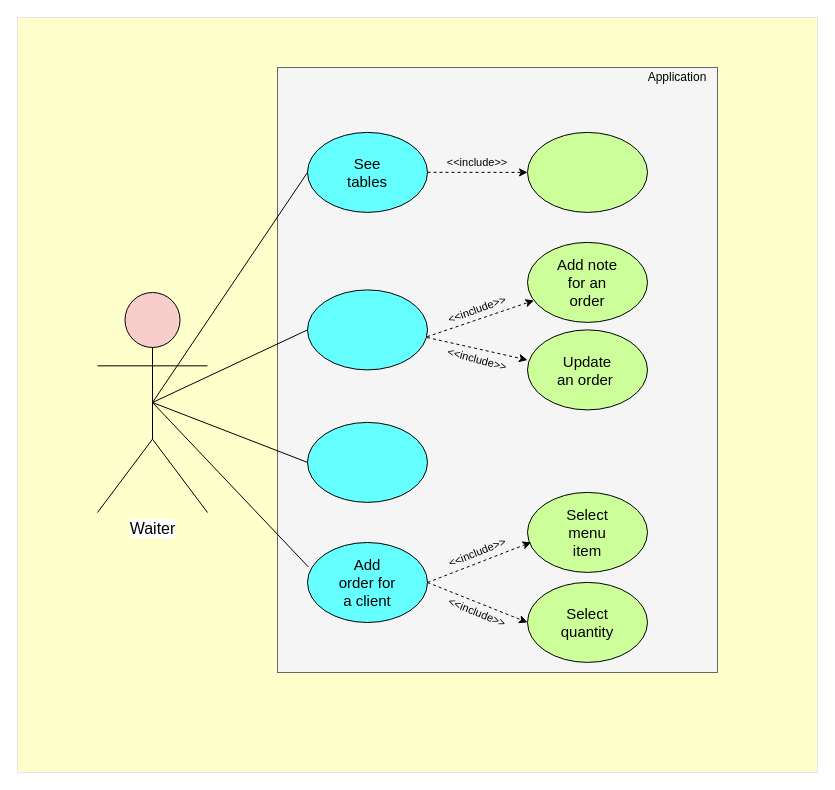
Some shapes in this 835 by 790 pixel diagram are drawn without their labels. The shapes that lost their labels are listed below. From the top down, each one's box as (x1, y1, x2, y2) in pixels, then its label:
(526, 131, 648, 212): Select a table
(306, 289, 428, 370): See orders for a table
(306, 421, 428, 502): Add client for a table
